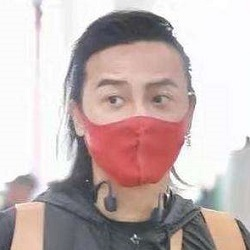mask: (71, 70, 192, 186)
